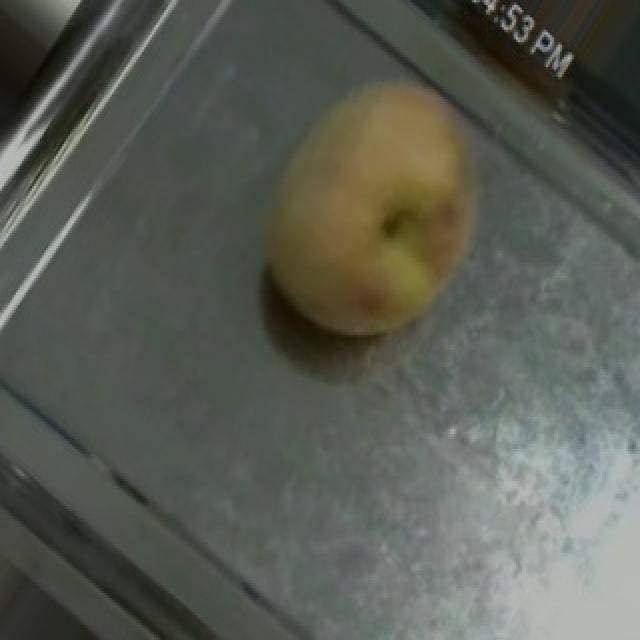Fruit: (214, 34, 534, 380)
